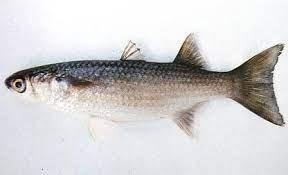Mullet: (3, 33, 285, 147)
